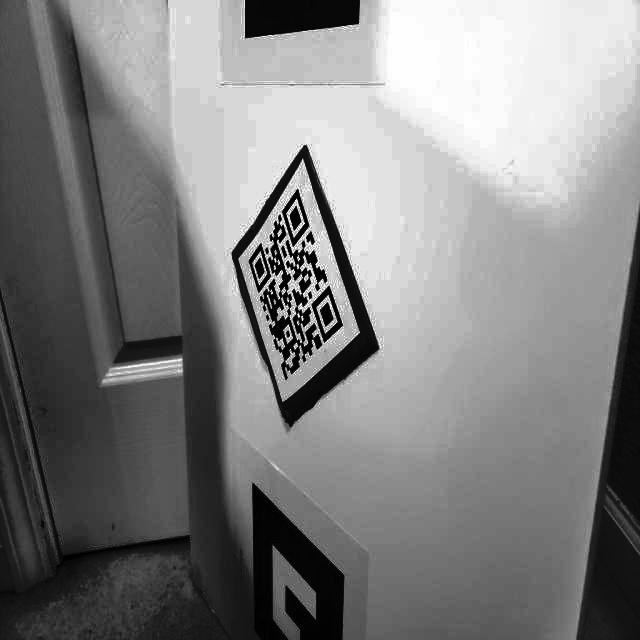qr_code: (243, 179, 353, 390)
